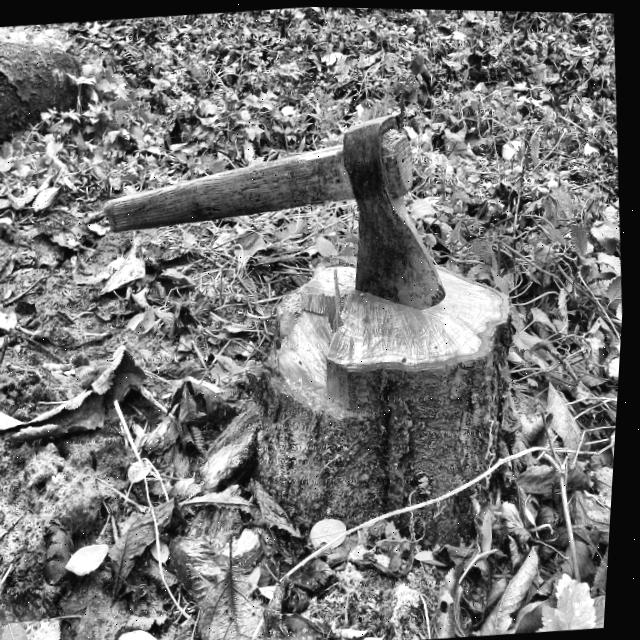kapak: (89, 86, 458, 312)
